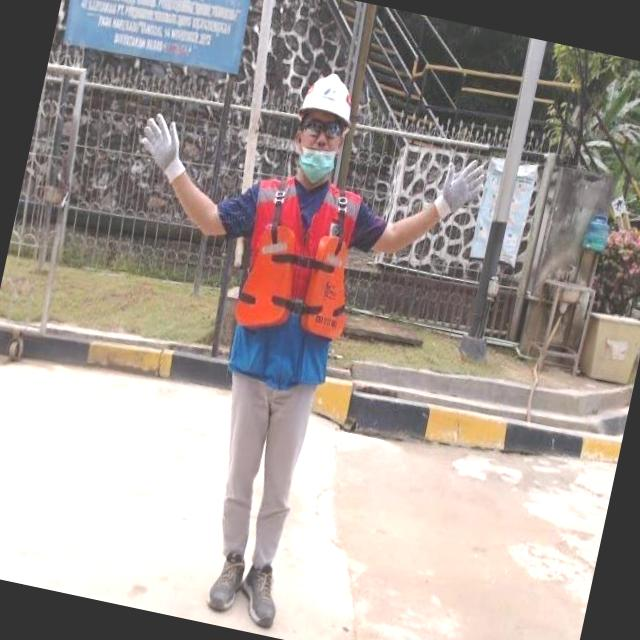boots: (235, 560, 288, 631), (204, 546, 251, 618)
gloves: (121, 97, 202, 198), (430, 145, 501, 229)
helmet: (298, 69, 359, 124)
vest: (220, 167, 374, 390)
